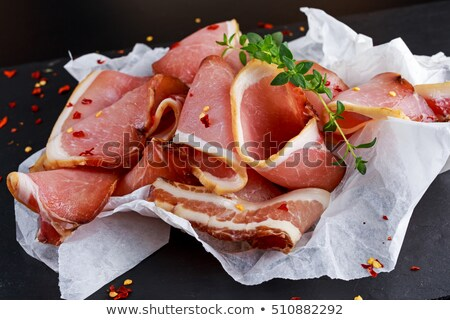bacon: (55, 41, 349, 254)
